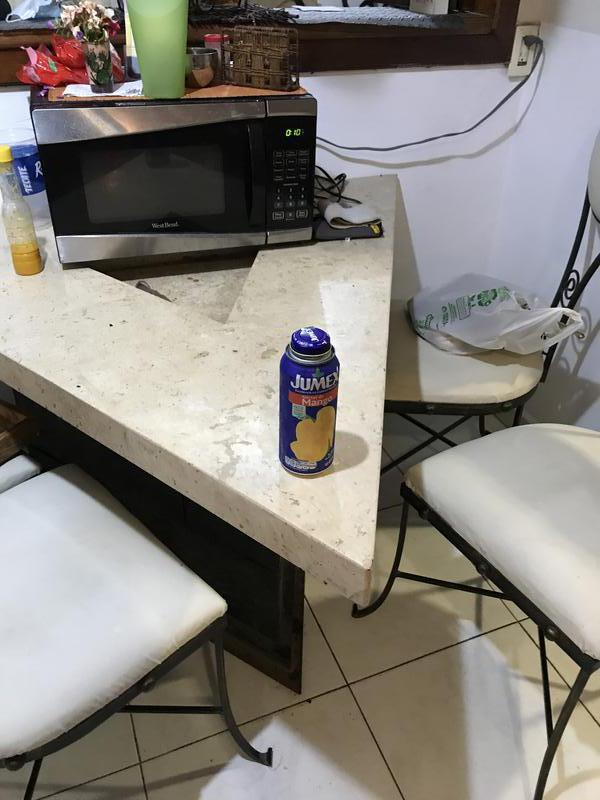jugo_jumex: (279, 327, 339, 474)
